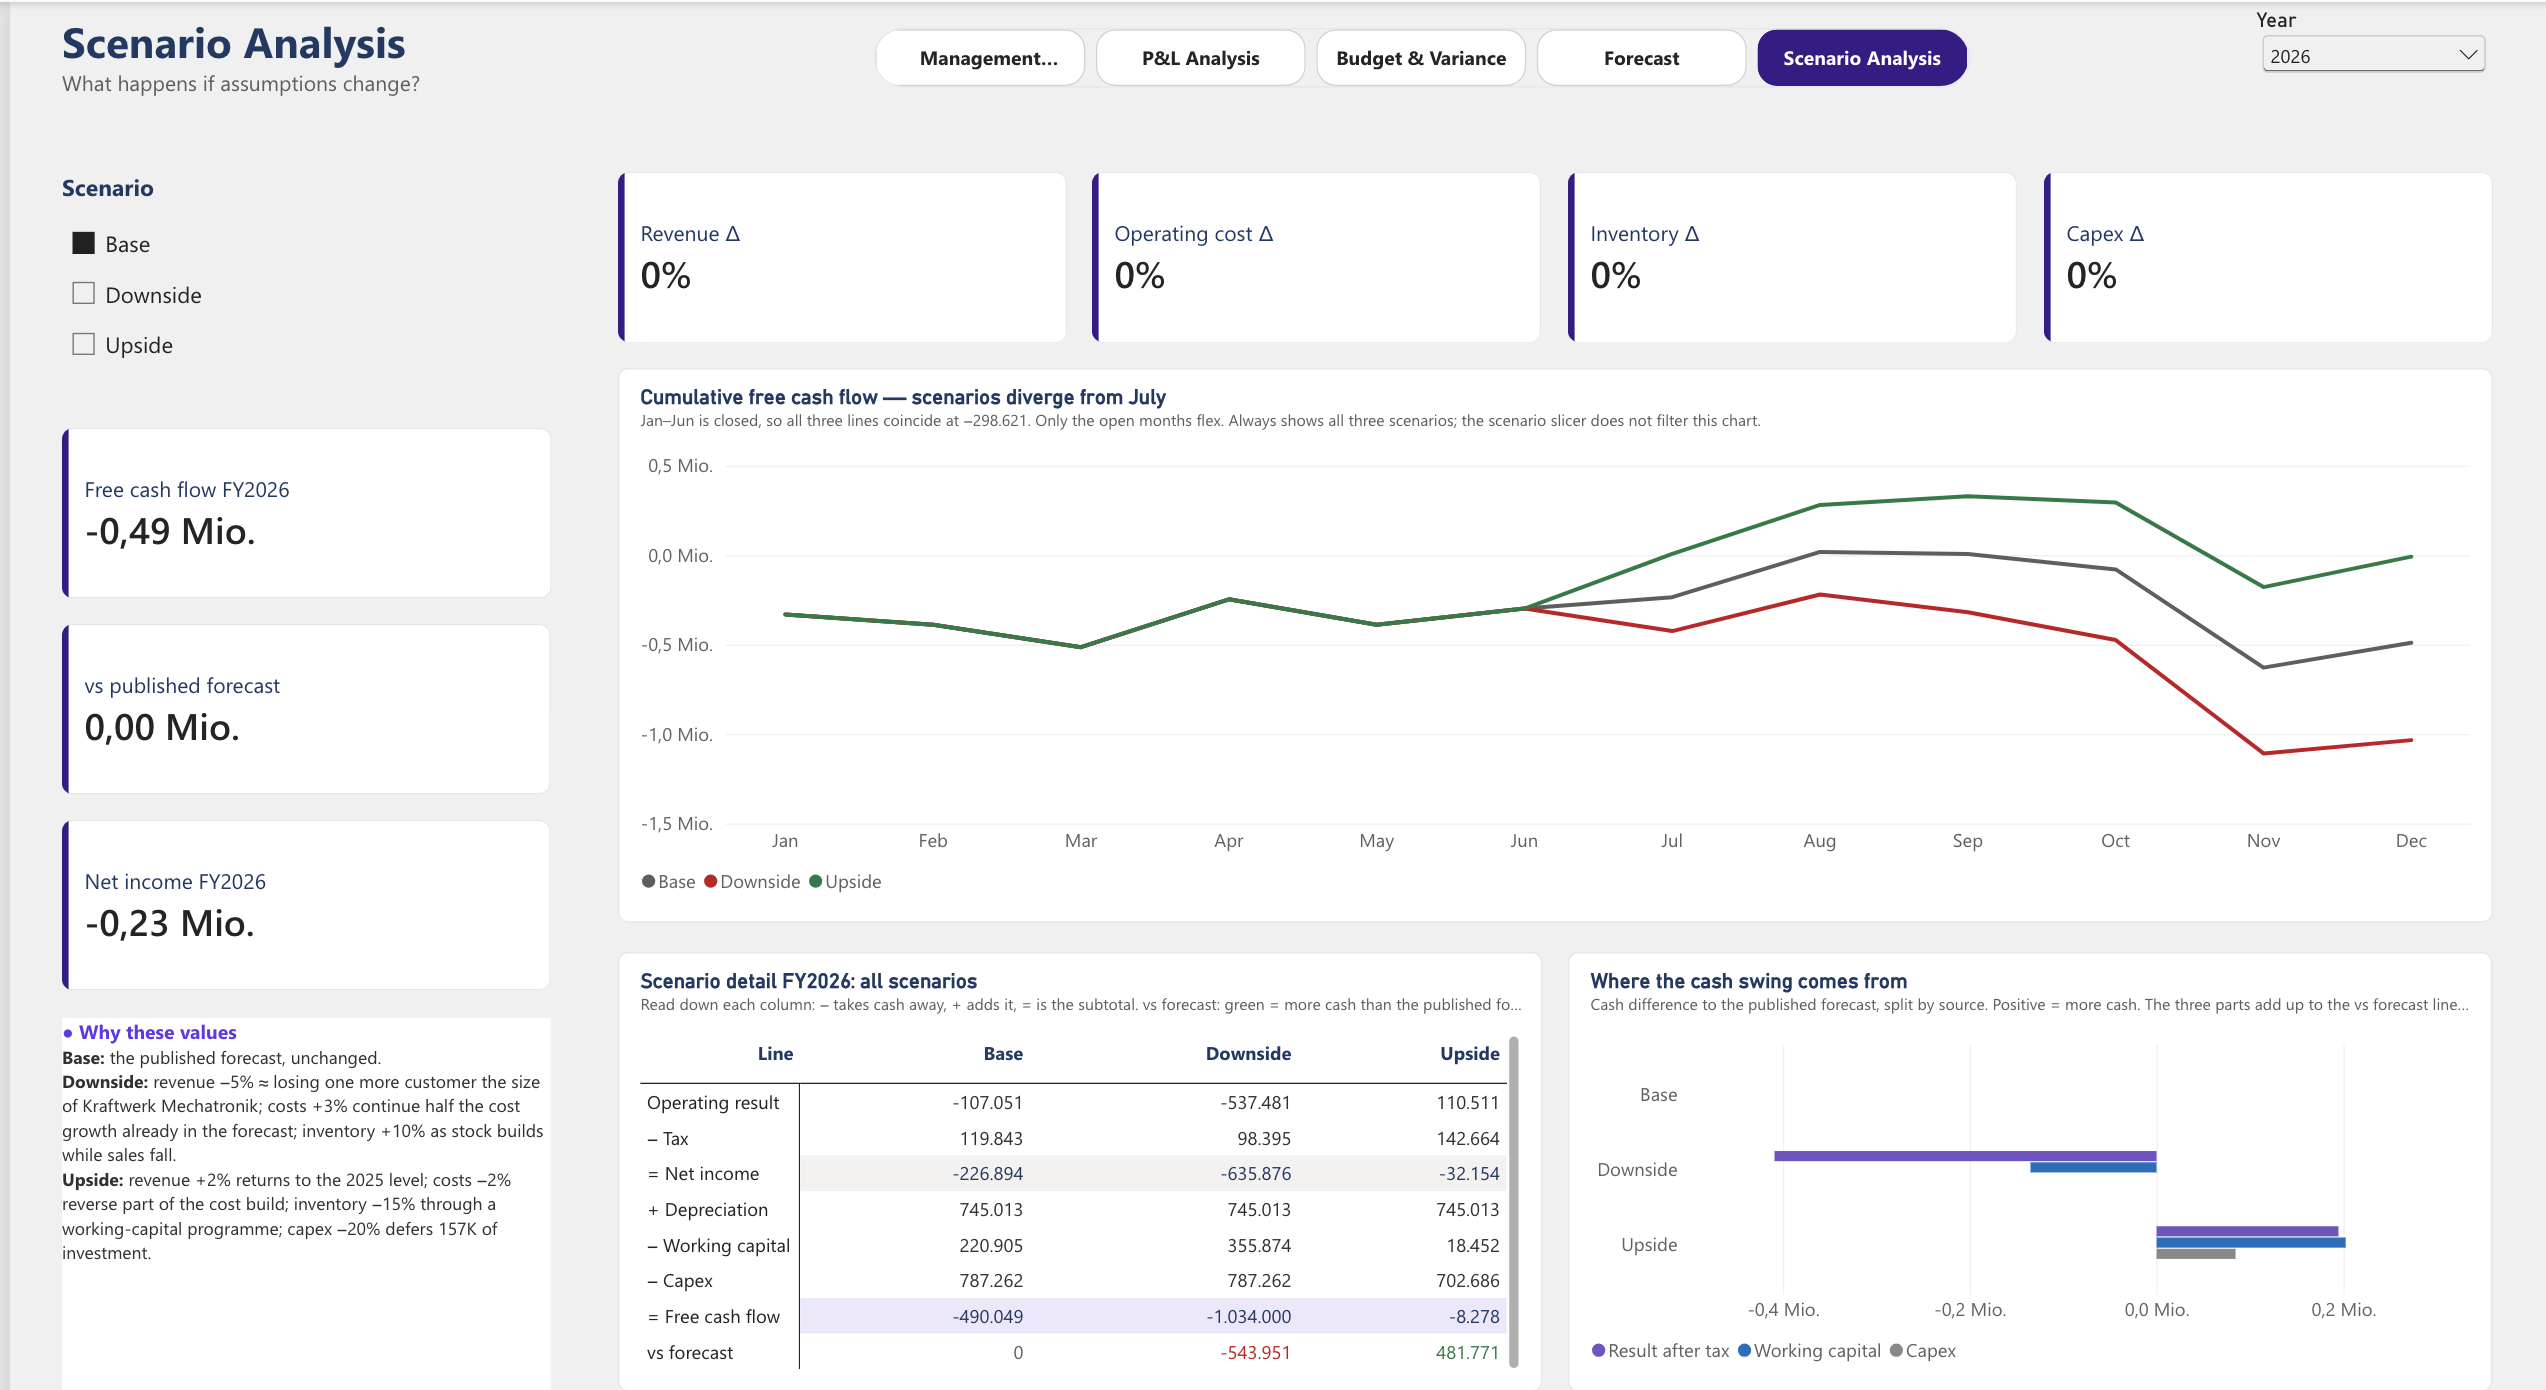

The page's visual inventory and layout, read from the dashboard file:
{"tool":"powerbi","page":{"name":" Scenario Analysis","canvas":[1920,1080],"ordinal":4},"visuals":[{"type":"textbox","box":[40,8,600,72],"z":0},{"type":"textbox","box":[40,128,370,36],"z":1000},{"type":"slicer","title":"Scenario","fields":{"Values":["Scenario.Scenario"]},"box":[40,164,370,140],"z":2000},{"type":"cardVisual","fields":{"Data":["_Measures.Scenario Free Cash Flow"]},"box":[40,322,370,129],"z":3000},{"type":"cardVisual","fields":{"Data":["_Measures.Scenario FCF vs Base"]},"box":[40,471,370,129],"z":4000},{"type":"cardVisual","fields":{"Data":["_Measures.Scenario Net Income"]},"box":[40,620,370,129],"z":5000},{"type":"textbox","box":[40,769,370,284],"z":6000},{"type":"cardVisual","fields":{"Data":["_Measures.Revenue Delta (selected)"]},"box":[460,128,340,129],"z":7000},{"type":"cardVisual","fields":{"Data":["_Measures.Opex Delta (selected)"]},"box":[820,128,340,129],"z":8000},{"type":"cardVisual","fields":{"Data":["_Measures.Inventory Delta (selected)"]},"box":[1180,128,340,129],"z":9000},{"type":"cardVisual","fields":{"Data":["_Measures.Capex Delta (selected)"]},"box":[1540,128,340,129],"z":10000},{"type":"clusteredBarChart","title":"Where the cash swing comes from","fields":{"Category":["Scenario.Scenario"],"Y":["_Measures.Scenario Cash Effect - Result","_Measures.Scenario Cash Effect - Working Capital","_Measures.Scenario Cash Effect - Capex"]},"box":[1180,720,700,333],"z":11000},{"type":"pivotTable","title":"Scenario detail FY2026: all scenarios","fields":{"Columns":["Scenario.Scenario"],"Rows":["Scenario_Lines.Line"],"Values":["_Measures.Scenario Line Value"]},"box":[460,720,700,333],"z":12000},{"type":"slicer","title":"Year","fields":{"Values":["dim_date.year"]},"box":[1701.1,5.4,179.2,50.7],"z":13000},{"type":"lineChart","title":"Cumulative free cash flow — scenarios diverge from July","fields":{"Category":["dim_date.month_short"],"Series":["Scenario.Scenario"],"Y":["_Measures.Scenario Free Cash Flow YTD"]},"box":[460,277,1420,420],"z":14000},{"type":"pageNavigator","box":[655,19,830,45],"z":15000}]}

Visuals, with their boxes on the page's 1920x1080 design canvas (x1, y1, x2, y2). These are canvas units, not pixel positions in the 2546x1390 screenshot, which may show the page scaled, cropped or inside an application window:
textbox: 40 8 640 80
textbox: 40 128 410 164
"Scenario" slicer: 40 164 410 304
cardVisual - _Measures.Scenario Free Cash Flow: 40 322 410 451
cardVisual - _Measures.Scenario FCF vs Base: 40 471 410 600
cardVisual - _Measures.Scenario Net Income: 40 620 410 749
textbox: 40 769 410 1053
cardVisual - _Measures.Revenue Delta (selected): 460 128 800 257
cardVisual - _Measures.Opex Delta (selected): 820 128 1160 257
cardVisual - _Measures.Inventory Delta (selected): 1180 128 1520 257
cardVisual - _Measures.Capex Delta (selected): 1540 128 1880 257
"Where the cash swing comes from" clusteredBarChart: 1180 720 1880 1053
"Scenario detail FY2026: all scenarios" pivotTable: 460 720 1160 1053
"Year" slicer: 1701 5 1880 56
"Cumulative free cash flow — scenarios diverge from July" lineChart: 460 277 1880 697
pageNavigator: 655 19 1485 64
